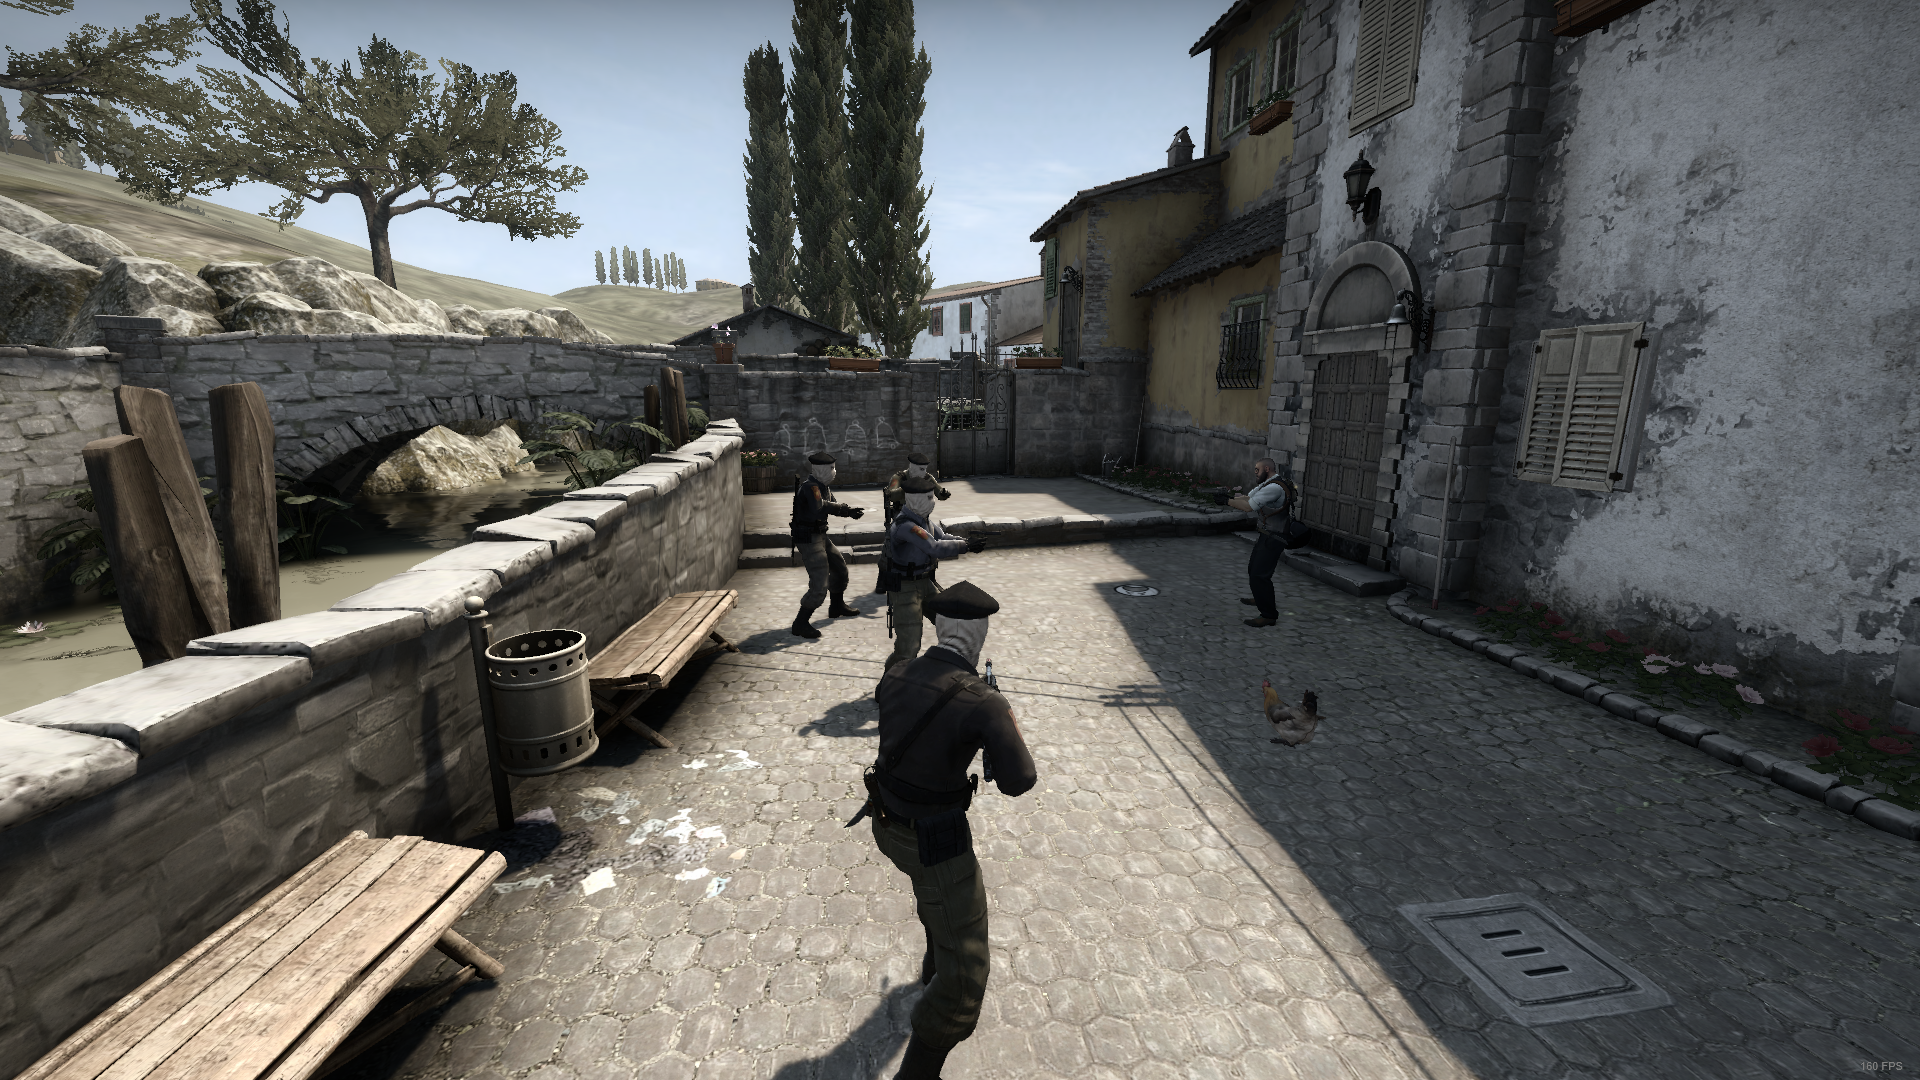t: (843, 582, 1055, 1075), (869, 479, 955, 705), (783, 451, 861, 644), (873, 454, 940, 596)
